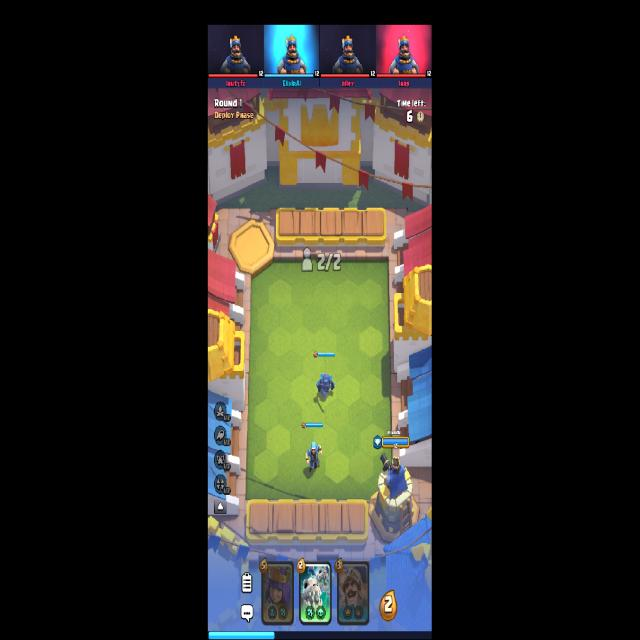card_archer_queen: (262, 560, 294, 626)
card_prince: (336, 560, 370, 624)
card_skeleton_dragon: (299, 561, 332, 626)
mini_pekka: (317, 372, 335, 400)
wizard: (304, 441, 322, 471)
